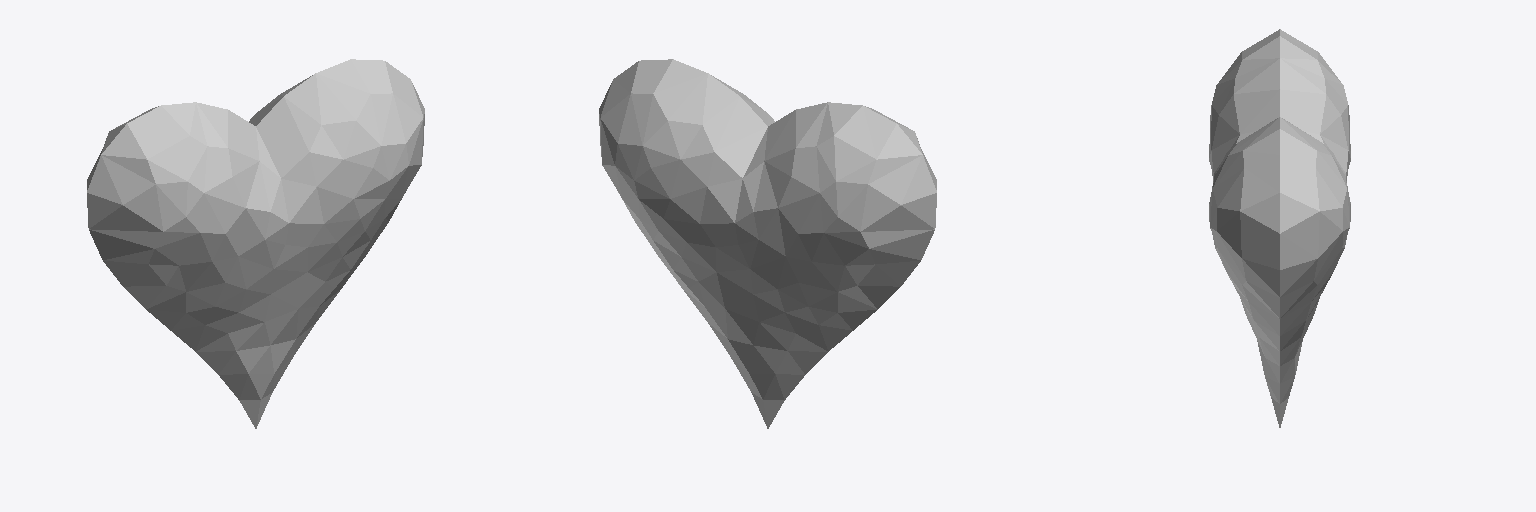
The model's file is lifeup.obj.
3 renders of one model, left to right at view 1: azimuth 30°, elevation 25°; view 2: azimuth 150°, elevation 25°; view 3: azimuth 270°, elevation 25°, orthographic.
Visible parts, largest first — view 1: Line002; view 2: Line002; view 3: Line002.
Part boxes in pixels (left/top/right/bottom): Line002: left=87, top=59, right=424, bottom=428; Line002: left=599, top=59, right=936, bottom=428; Line002: left=1209, top=29, right=1350, bottom=427.
Bounding box in the file's own units: 1.02 × 1 × 0.37.